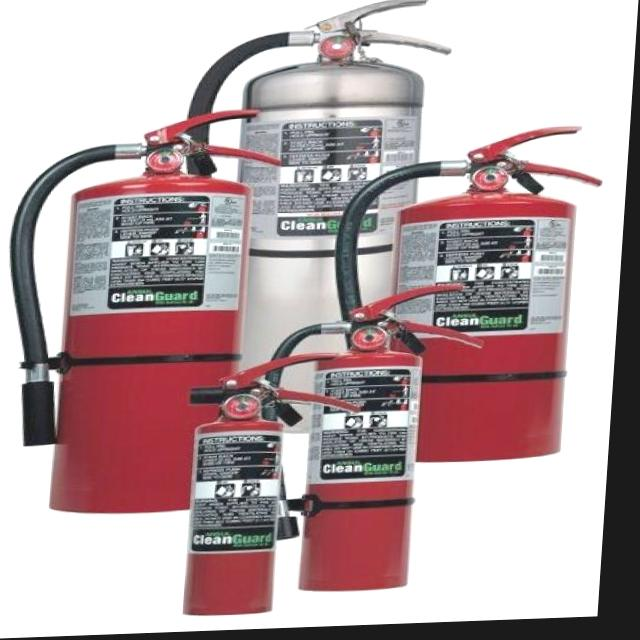FireExtinguisher: (158, 0, 460, 449), (0, 105, 292, 523), (316, 126, 617, 473), (241, 281, 496, 600), (168, 348, 374, 622)
